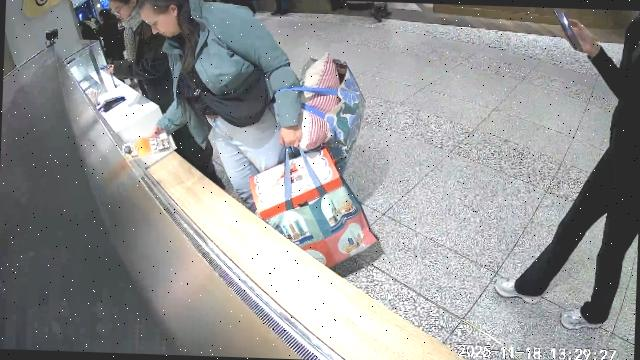sushi-box: (122, 131, 174, 161)
